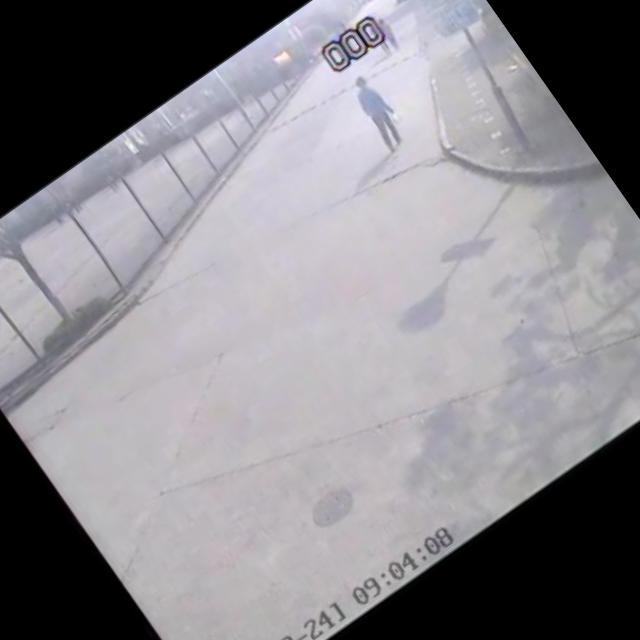person: (324, 56, 428, 178), (362, 3, 411, 56)
